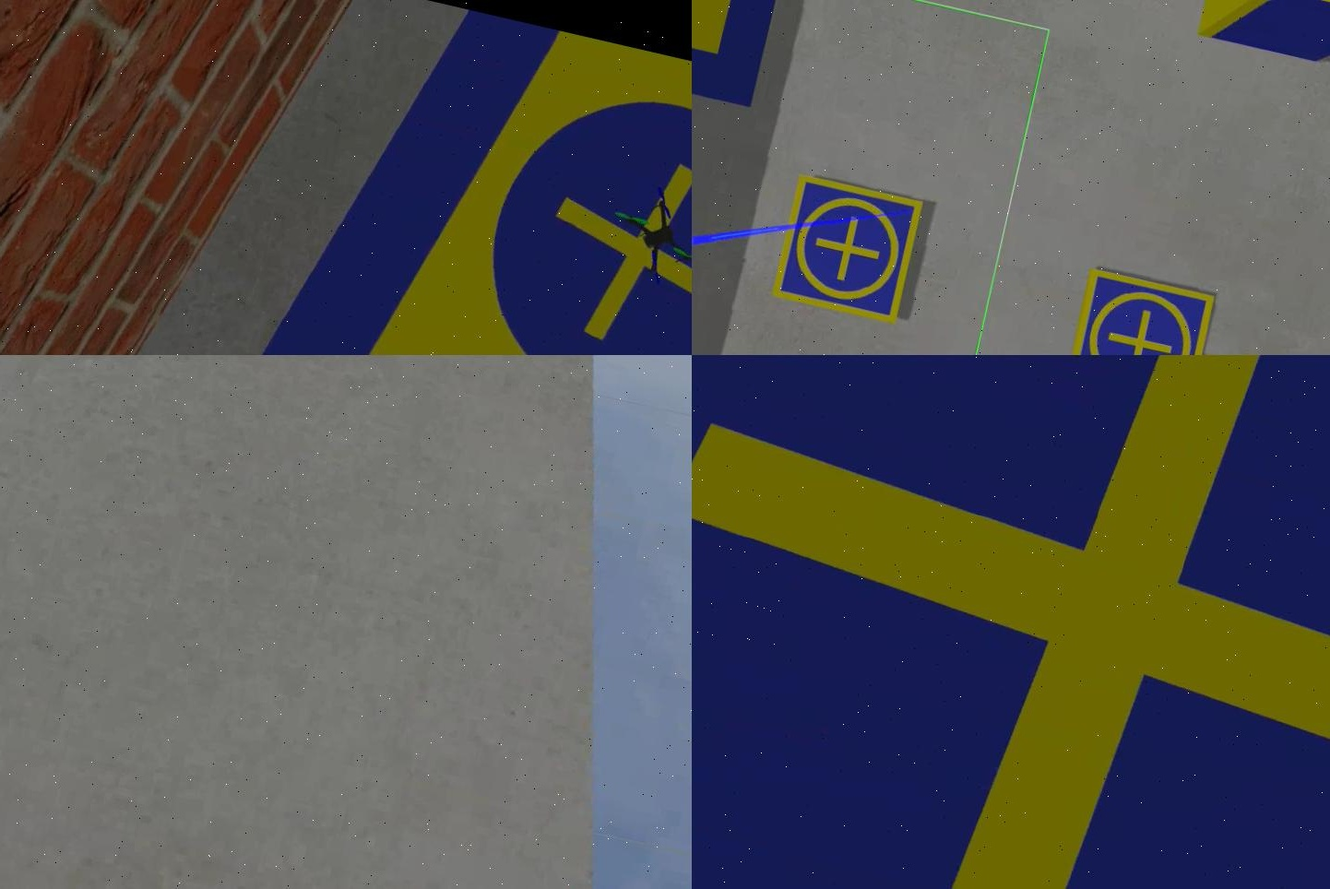large_base: (169, 1, 690, 356)
small_base: (690, 356, 1328, 889), (767, 171, 924, 326), (1058, 269, 1217, 356)
